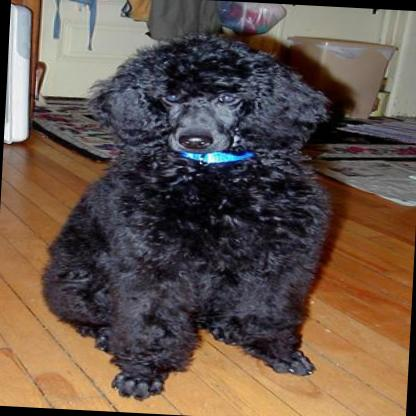standard_poodle: (37, 24, 350, 410)
